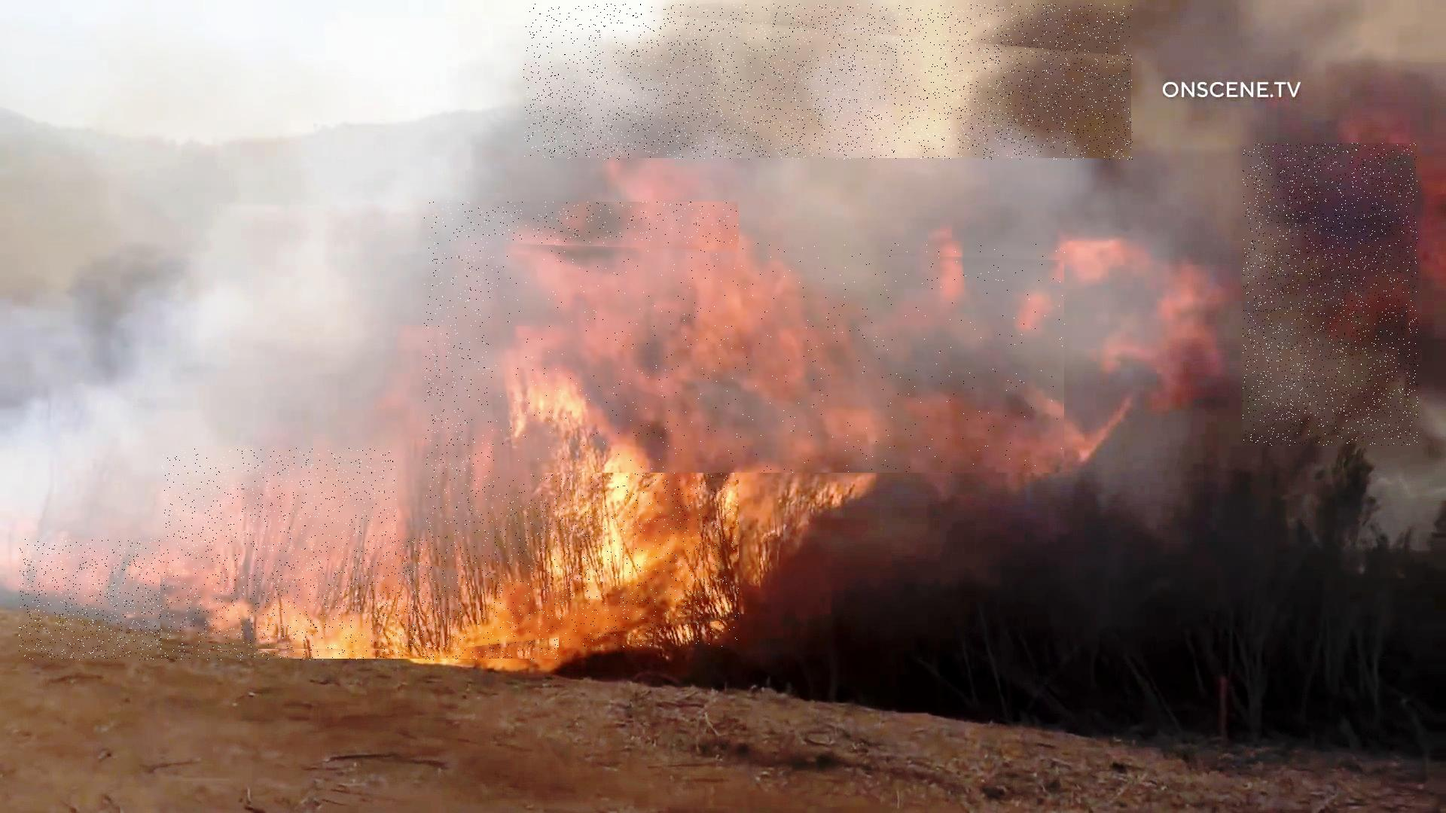fire: (424, 202, 739, 648), (493, 243, 1066, 473), (19, 539, 559, 661), (162, 448, 397, 649)
smoke: (524, 4, 1133, 160), (1243, 143, 1418, 446)
